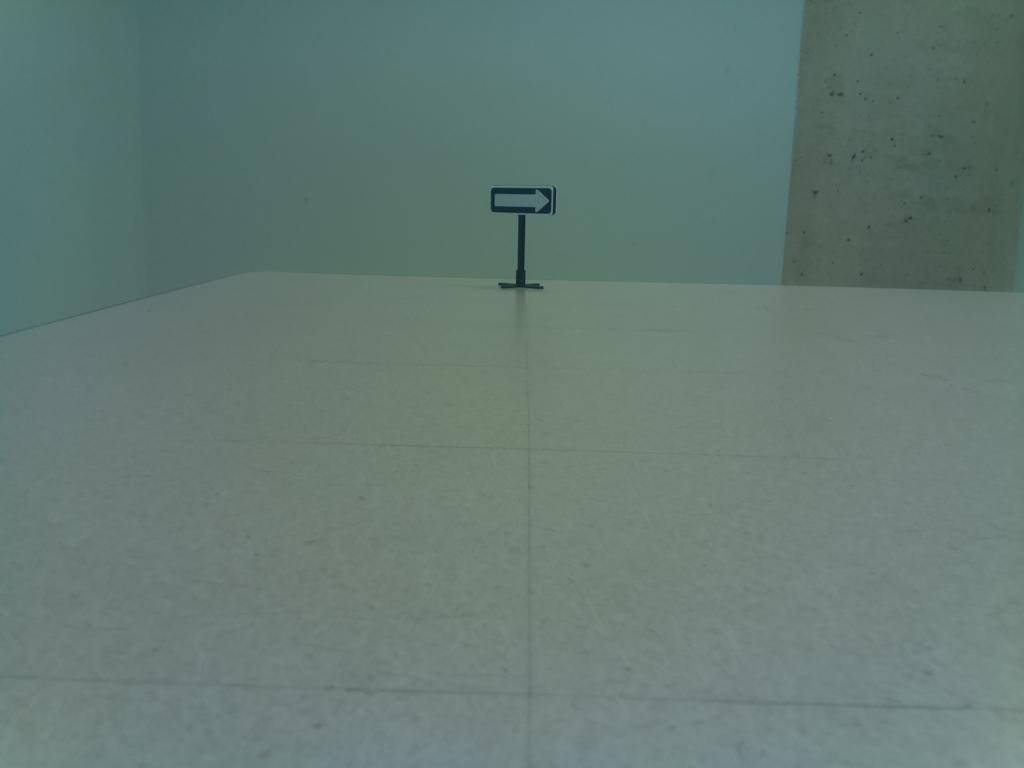sign_oneway_right: (484, 182, 562, 221)
